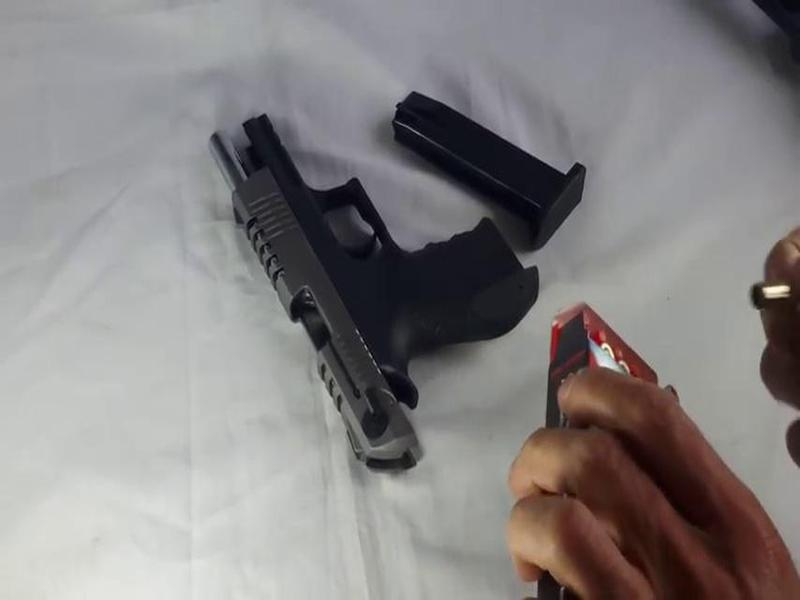Pistola: (195, 96, 557, 495)
